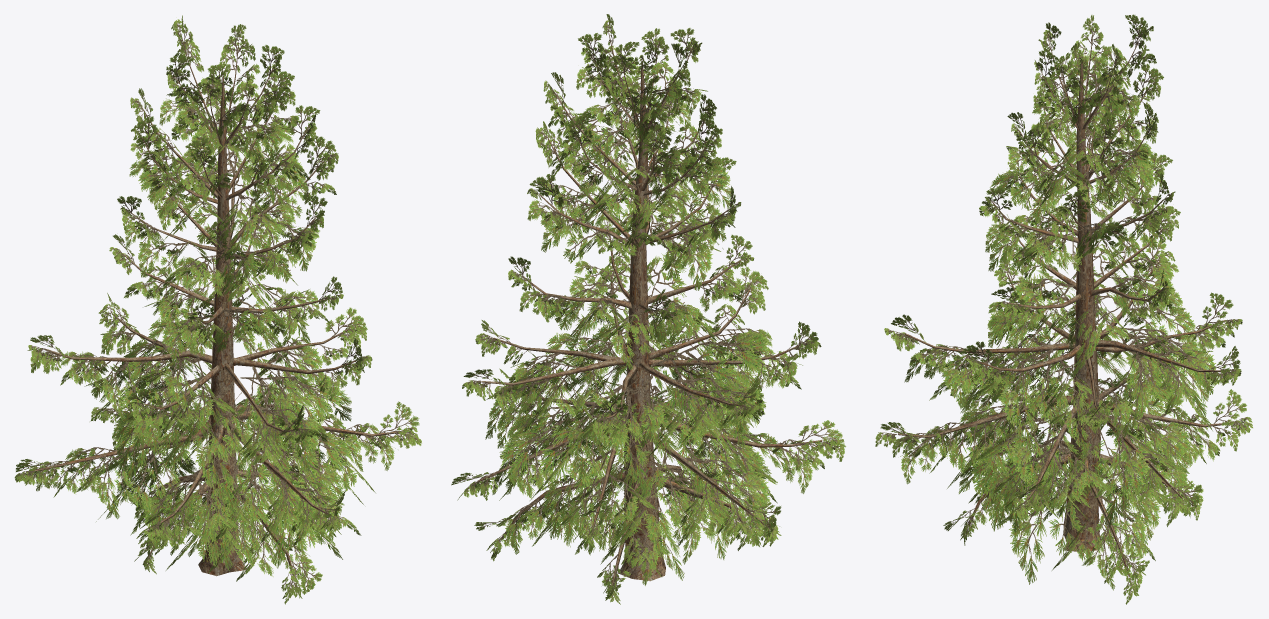
File: fir-05.gltf
3 renders of one model, left to right at view 1: azimuth 30°, elevation 25°; view 2: azimuth 150°, elevation 25°; view 3: azimuth 270°, elevation 25°, orthographic. The views are drawn at different scales.
Parts seen in each view (by area): view 1: fir-05; view 2: fir-05; view 3: fir-05.
Boxes of the visible parts, x1,y1,x2,y2 form: fir-05: (14,15,421,604); fir-05: (451,14,845,604); fir-05: (875,14,1252,604).
Size of the model in its own units: 436 by 661 by 431.
